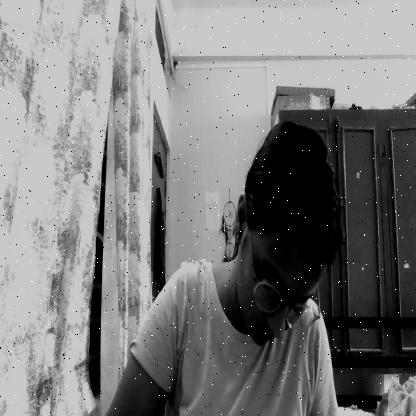Distracted: (236, 124, 340, 349)
